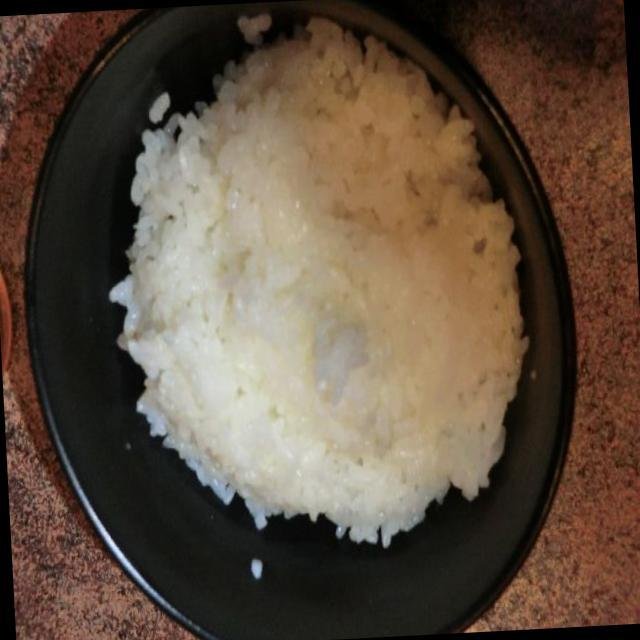Rice: (106, 24, 580, 559)
